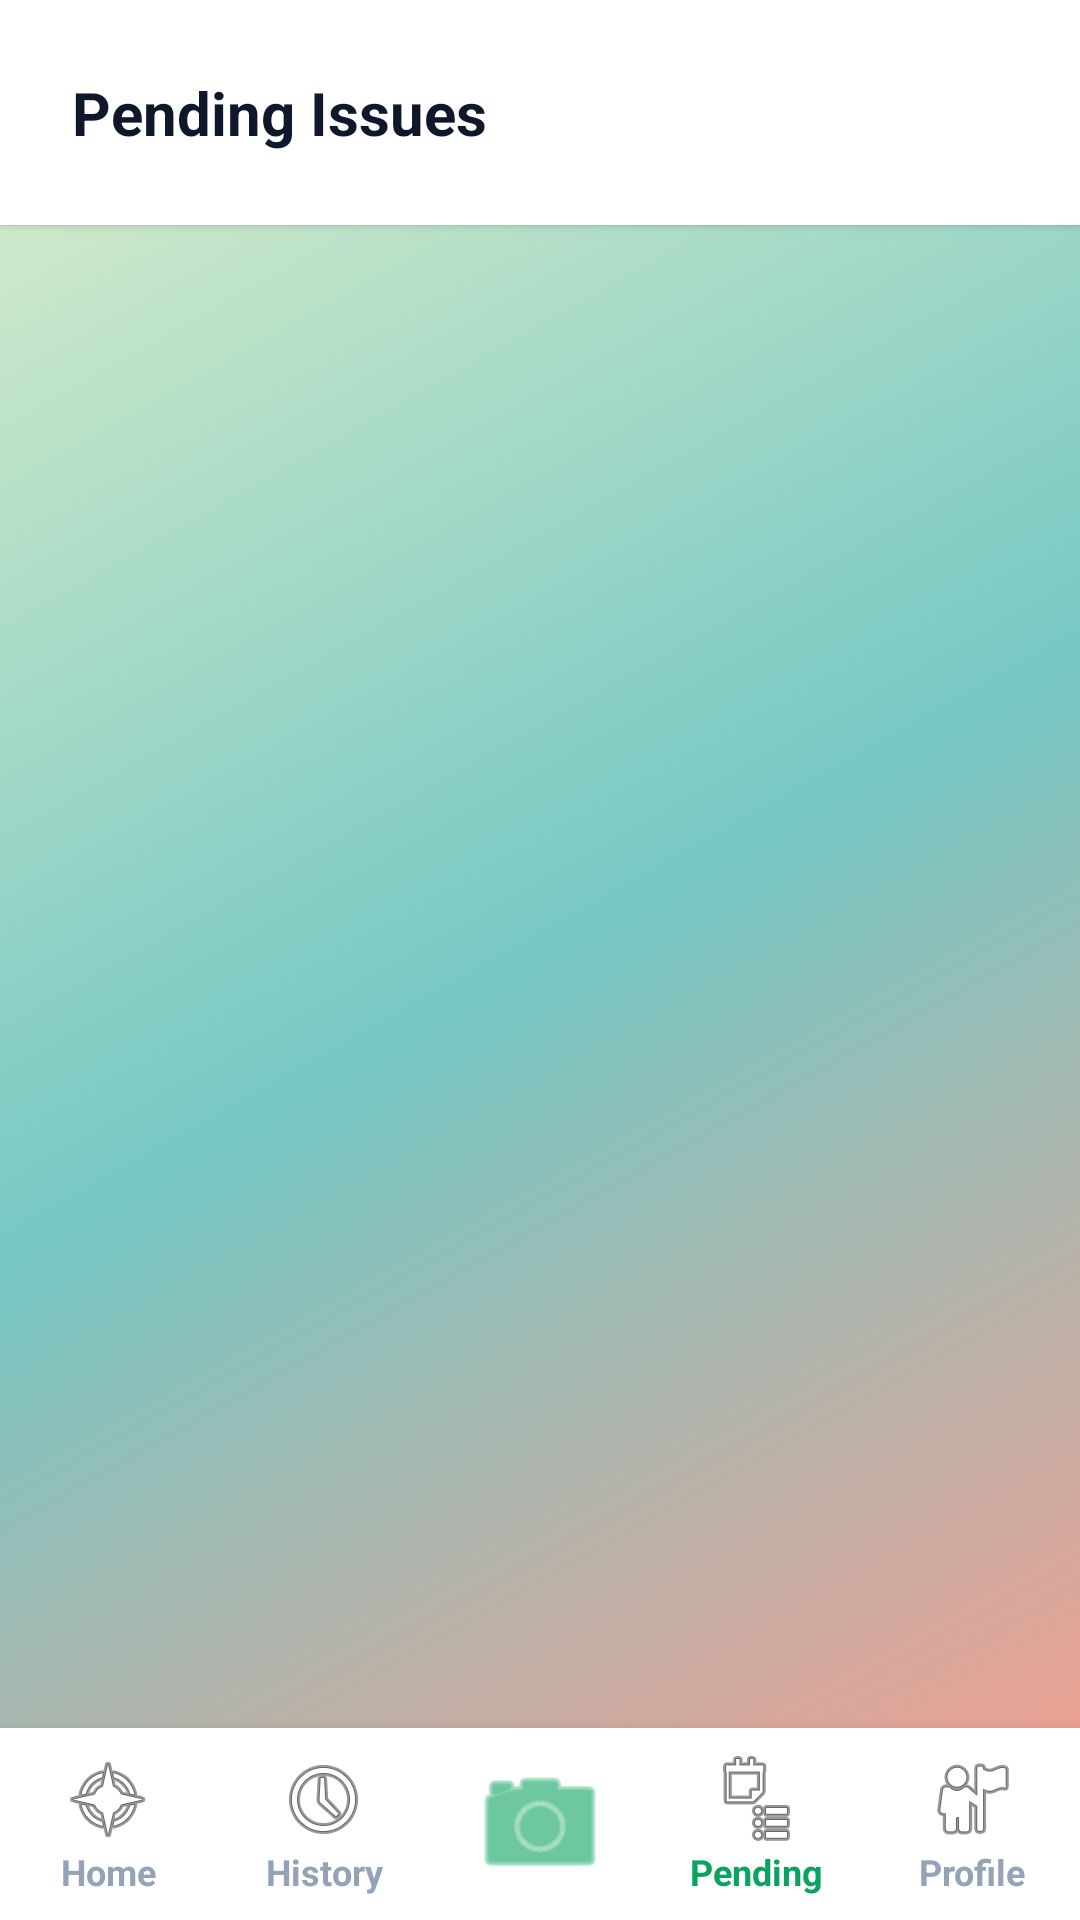

Screen size 1080 × 1920. Icon name, then its center in pixels as point (x, y):
camera: point (540, 1821)
